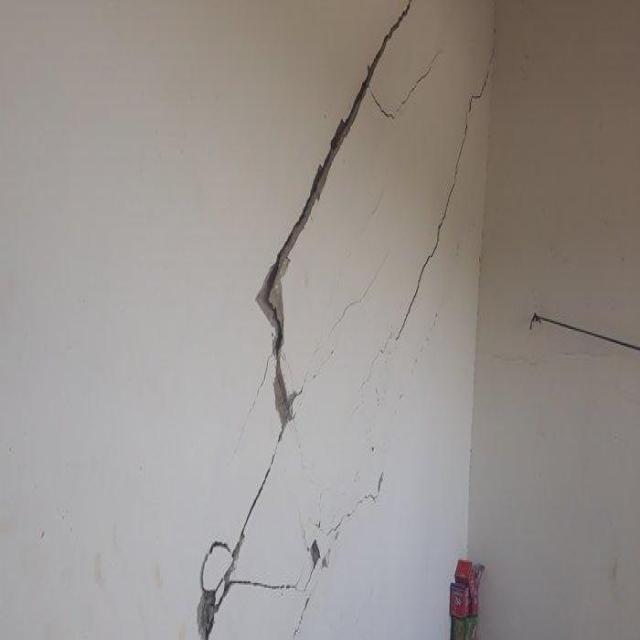crack: (255, 3, 405, 430), (195, 453, 298, 635), (393, 116, 470, 335), (306, 541, 327, 569)
